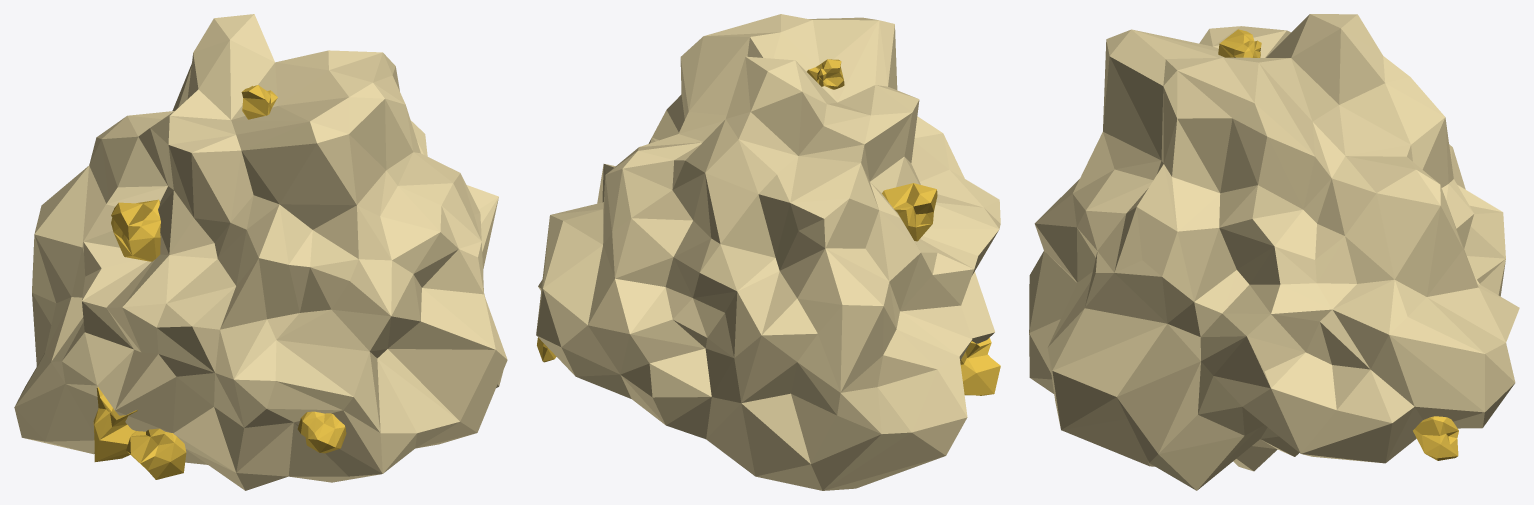
The model's file is MetalOre (47).fbx.
3 renders of one model, left to right at view 1: azimuth 30°, elevation 25°; view 2: azimuth 150°, elevation 25°; view 3: azimuth 270°, elevation 25°, orthographic. The views are drawn at different scales.
Parts seen in each view (by area): view 1: Asteroid402; view 2: Asteroid402; view 3: Asteroid402.
Part boxes in pixels (x1,y1,x2,y2): Asteroid402: [14, 14, 507, 490]; Asteroid402: [536, 14, 1000, 490]; Asteroid402: [1029, 14, 1519, 490].
Bounding box in the file's own units: 389 × 354 × 359.
